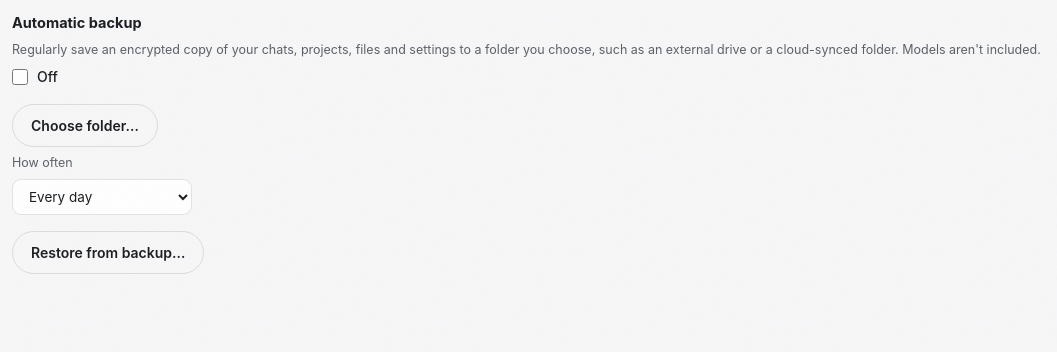
AutoBackupField › turning it on asks for a folder first, then switches on
Step 1. Click the checkbox → click(20, 77), box [12, 69, 28, 85]
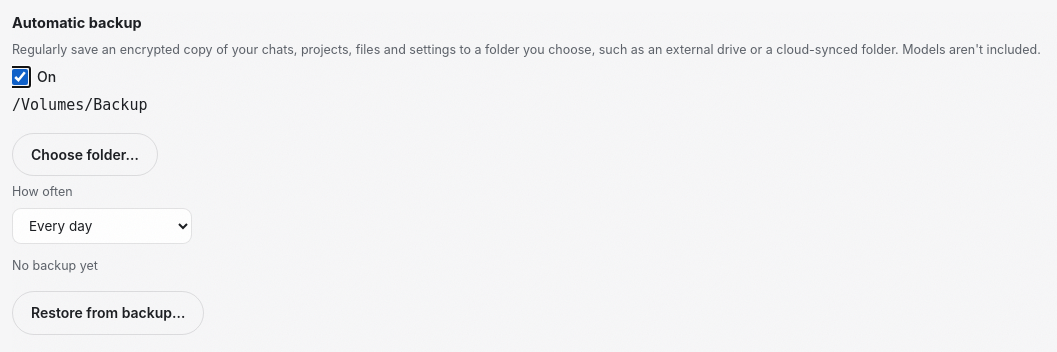
Now the checkbox is checked, box [12, 69, 28, 85]
Now the text "/Volumes/Backup" is shown, box [12, 96, 148, 114]
Now the message reads "No backup yet", box [12, 258, 98, 273]
